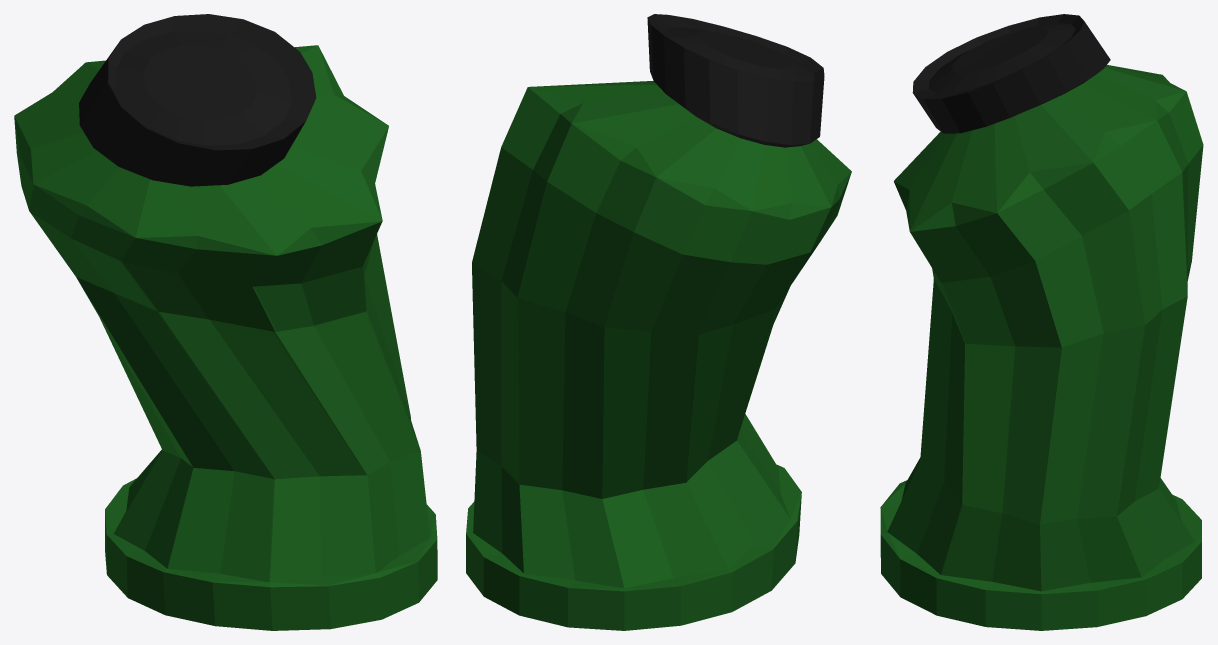
Rendered from can5.fbx.
3 renders of one model, left to right at view 1: azimuth 30°, elevation 25°; view 2: azimuth 150°, elevation 25°; view 3: azimuth 270°, elevation 25°, orthographic. The views are drawn at different scales.
Parts seen in each view (by area): view 1: Cylinder003; view 2: Cylinder003; view 3: Cylinder003.
Boxes of the visible parts, bbox=[...] form: Cylinder003: bbox=[14, 14, 437, 630]; Cylinder003: bbox=[466, 14, 851, 630]; Cylinder003: bbox=[880, 14, 1203, 630].
Size of the model in its own units: 10.33 by 15 by 8.71.
